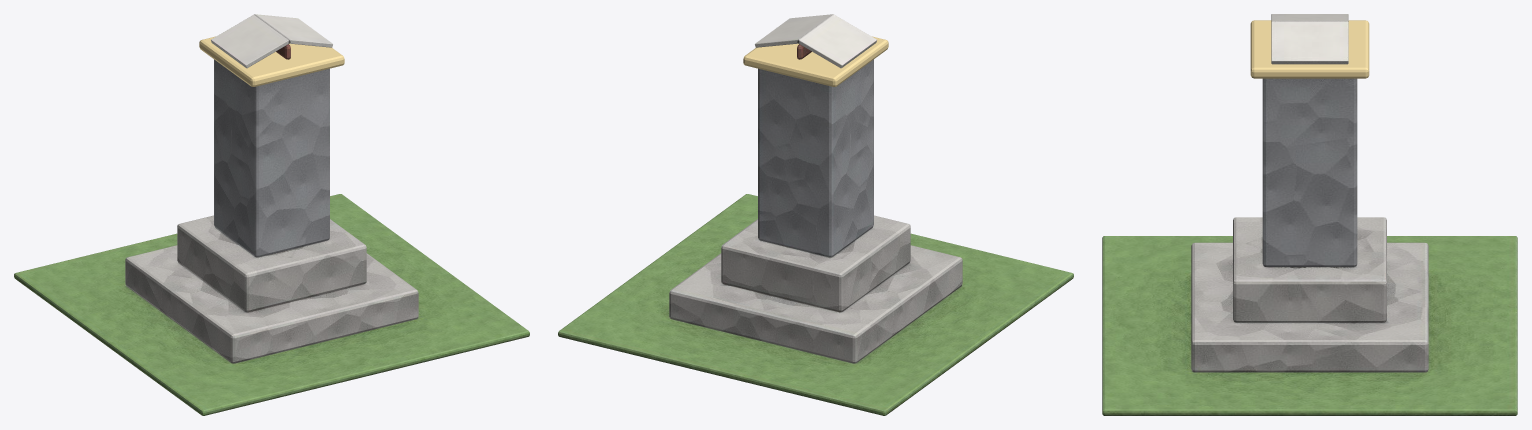
Rendered from buch_krimi.glb.
3 views of the same model, side by side, from view 1: azimuth 30°, elevation 25°; view 2: azimuth 150°, elevation 25°; view 3: azimuth 270°, elevation 25° (orthographic). The views are drawn at different scales.
Visible parts, largest first — view 1: buch_krimi, buch_krimi_details; view 2: buch_krimi, buch_krimi_details; view 3: buch_krimi, buch_krimi_details.
Boxes of the visible parts, left/top/right/bottom form: buch_krimi: left=14, top=14, right=529, bottom=415; buch_krimi_details: left=199, top=36, right=344, bottom=86; buch_krimi: left=558, top=14, right=1073, bottom=415; buch_krimi_details: left=743, top=36, right=888, bottom=86; buch_krimi: left=1102, top=14, right=1517, bottom=415; buch_krimi_details: left=1250, top=20, right=1369, bottom=78.
Size of the model in its own units: 0.7 by 0.5729 by 0.7.
Materials: 2 (1 with a texture image).
